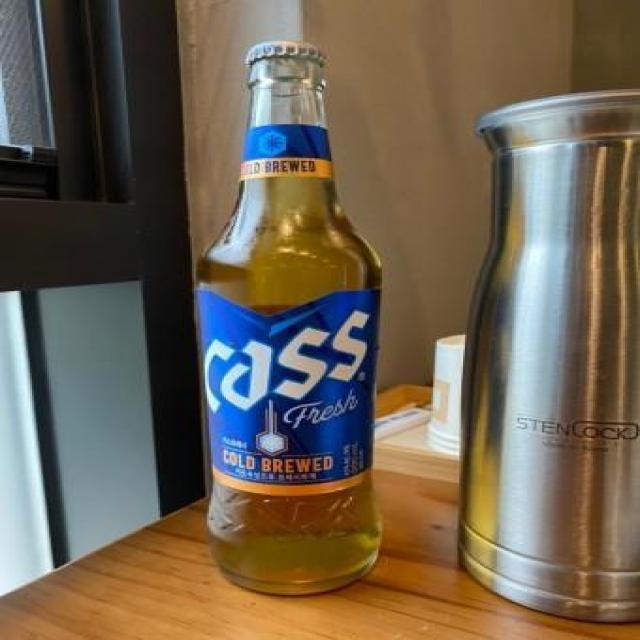beer-bottle: (194, 35, 388, 600)
